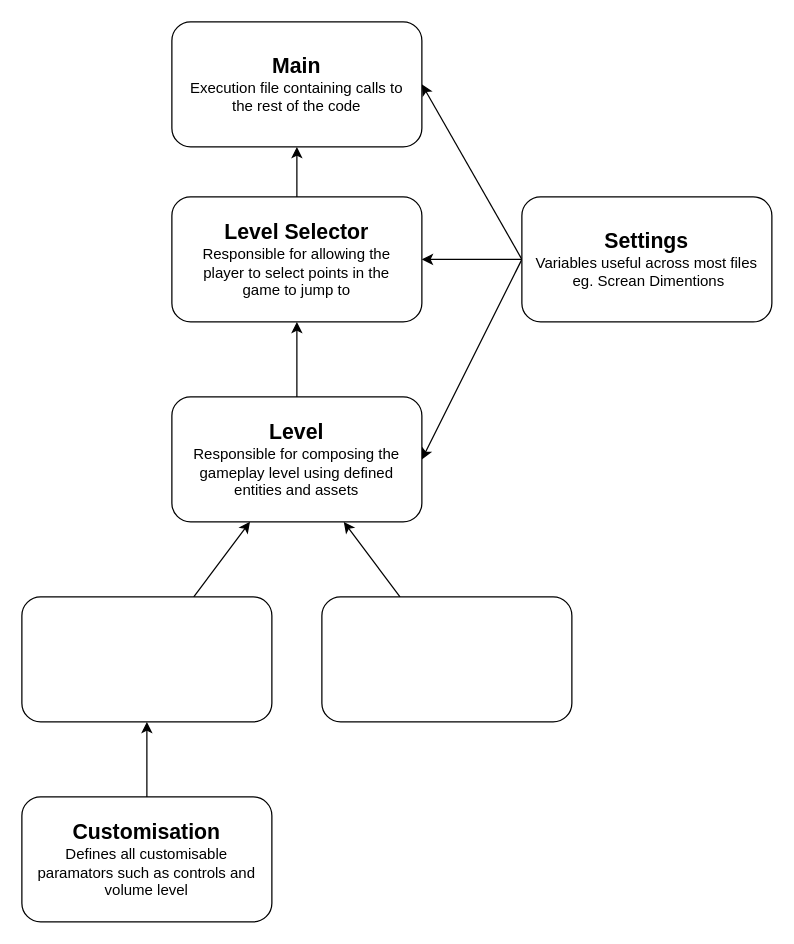
This 794x944 diagram has some shape labels left out. The box of each missing label's shape, as (x1, y1, x2, y2) in pixels:
Entites Loads assets for most entities and handles animation logic: (321, 596, 572, 722)
Player Defines the player charactor including user input and movement: (21, 596, 272, 722)
